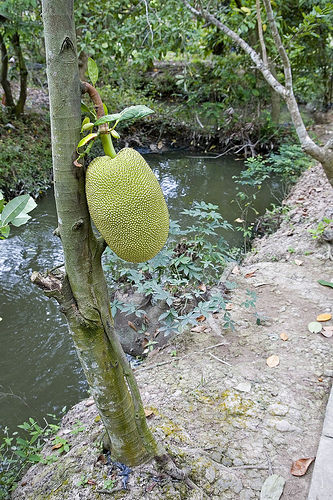jackfruit: (83, 85, 167, 265)
